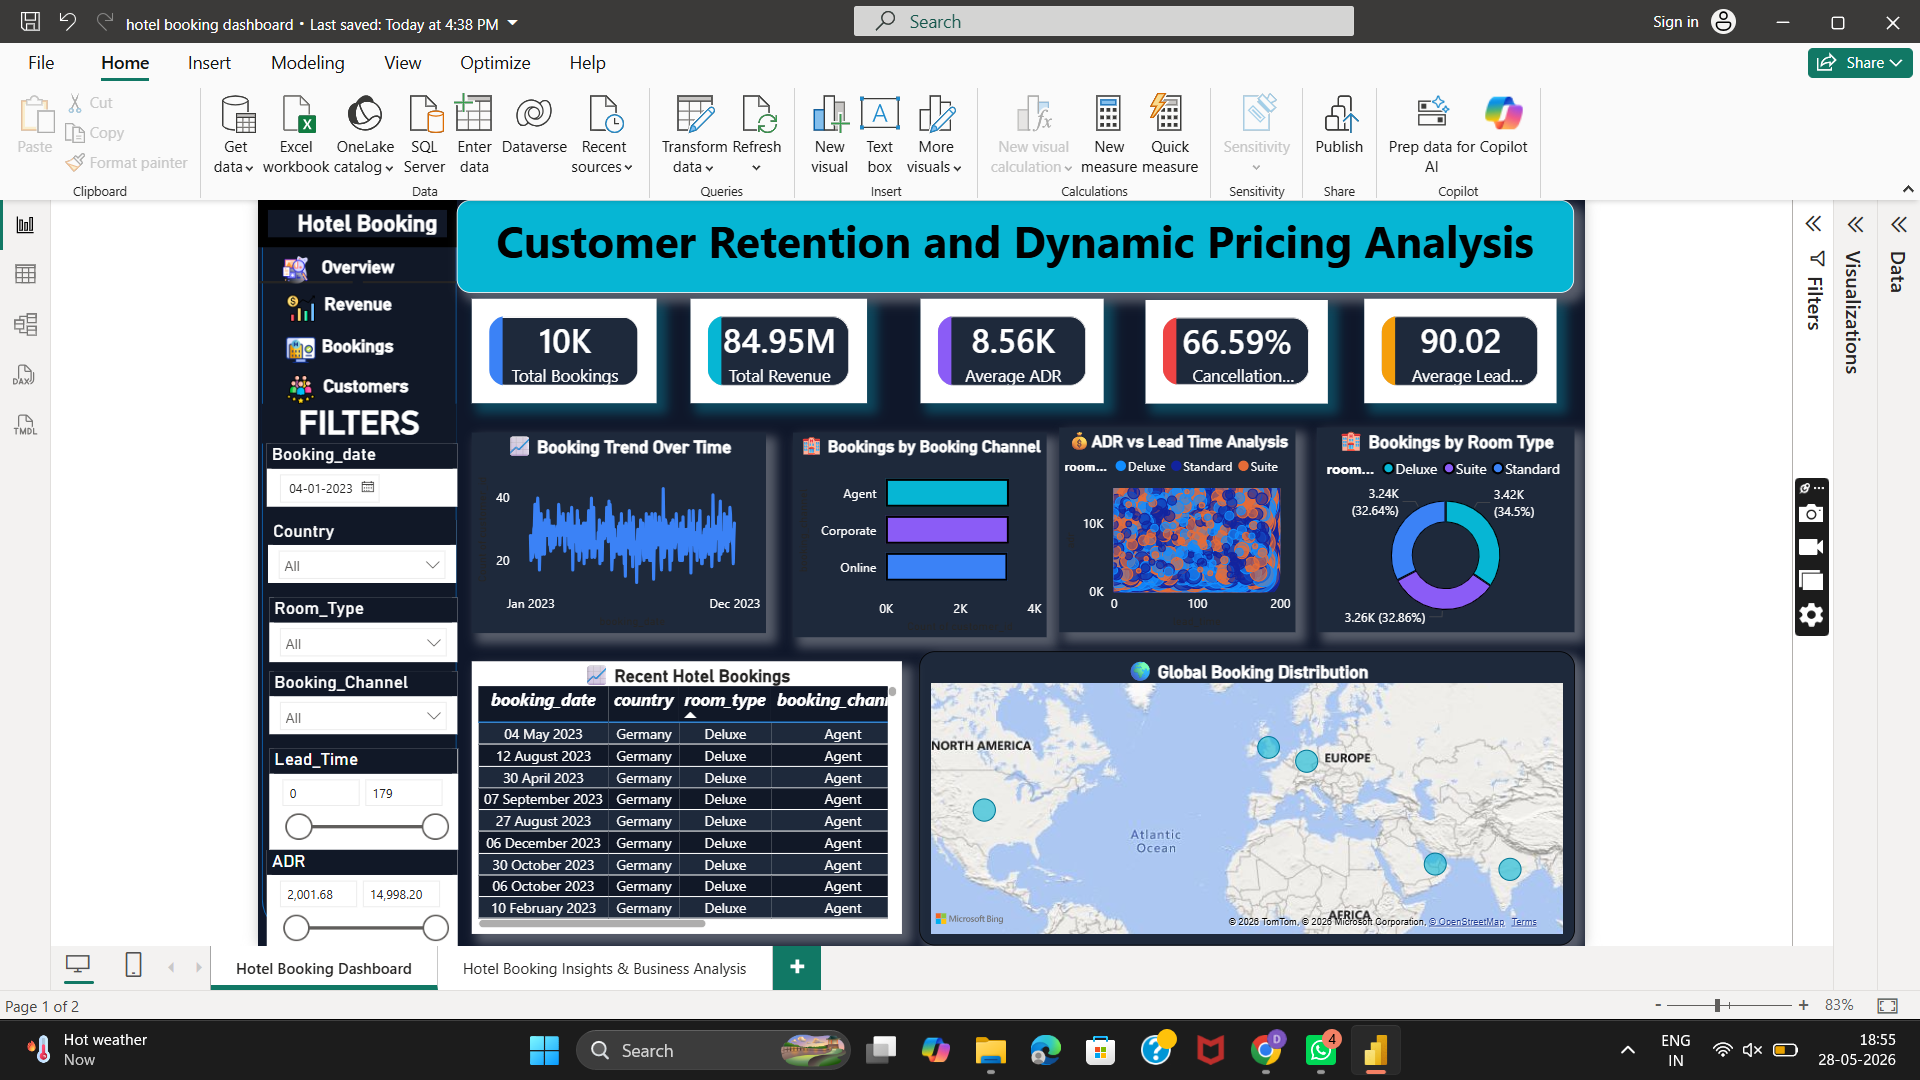

This screenshot's page, from the dashboard's own definition file:
{"tool":"powerbi","page":{"name":"Hotel Booking Dashboard","canvas":[1280,720],"ordinal":0},"visuals":[{"type":"shape","box":[4.2,0,188.2,708.7],"z":0},{"type":"pageNavigator","title":"Overview","box":[1.4,54,191,26.3],"z":1000},{"type":"pageNavigator","title":"Revenue","box":[1.4,90,191,27.7],"z":2000},{"type":"pageNavigator","title":"Bookings","box":[0,130.1,192.4,29.1],"z":3000},{"type":"pageNavigator","title":"Customers","box":[15.2,168.9,177.2,27.7],"z":4000},{"type":"textbox","title":"FILTERS","box":[4.2,196.5,188.2,38.8],"z":5000},{"type":"textbox","title":"Hotel Booking","box":[0,0,192.4,45.7],"z":6000},{"type":"slicer","title":"Booking_date","fields":{"Values":["cleaned_hotel_booking.booking_date"]},"box":[8.3,235.3,184.1,60.9],"z":7000},{"type":"slicer","title":"Country","fields":{"Values":["cleaned_hotel_booking.country"]},"box":[9.7,308.7,181.3,60.9],"z":8000},{"type":"slicer","title":"Room_Type","fields":{"Values":["cleaned_hotel_booking.room_type"]},"box":[11.1,383.4,181.3,62.3],"z":9000},{"type":"slicer","title":"Booking_Channel","fields":{"Values":["cleaned_hotel_booking.booking_channel"]},"box":[11.1,455.4,181.3,60.9],"z":10000},{"type":"slicer","title":"Lead_Time","fields":{"Values":["cleaned_hotel_booking.lead_time"]},"box":[11.1,530.1,181.3,96.9],"z":11000},{"type":"slicer","title":"ADR","fields":{"Values":["cleaned_hotel_booking.adr(average daily rate)"]},"box":[8.3,627,184.1,92.7],"z":12000},{"type":"image","box":[15.2,168.9,51.2,27.7],"z":13000},{"type":"image","box":[15.2,54,40.1,26.3],"z":14000},{"type":"image","box":[15.2,130.1,51.2,29.1],"z":15000},{"type":"image","box":[15.2,90,51.2,27.7],"z":16000},{"type":"cardVisual","fields":{"Data":["cleaned_hotel_booking.Total Bookings"]},"box":[206.2,95.5,178.5,101],"z":17000},{"type":"cardVisual","fields":{"Data":["cleaned_hotel_booking.Total Revenue"]},"box":[418,95.5,170.2,101],"z":18000},{"type":"cardVisual","fields":{"Data":["cleaned_hotel_booking.Average Lead Time"]},"box":[1067.1,95.5,185.5,101],"z":19000},{"type":"cardVisual","fields":{"Data":["cleaned_hotel_booking.Average ADR"]},"box":[639.4,95.5,177.2,101],"z":20000},{"type":"cardVisual","fields":{"Data":["cleaned_hotel_booking.Cancellation Rate"]},"box":[856.8,96.9,175.8,99.7],"z":21000},{"type":"lineChart","title":"📈 Booking Trend Over Time","fields":{"Category":["cleaned_hotel_booking.booking_date"],"Y":["CountNonNull(cleaned_hotel_booking.customer_id)"]},"box":[206.2,224.2,283.7,193.8],"z":22000},{"type":"textbox","box":[192.4,0,1078.2,90],"z":23000},{"type":"donutChart","title":"🏨 Bookings by Room Type","fields":{"Category":["cleaned_hotel_booking.room_type"],"Y":["CountNonNull(cleaned_hotel_booking.customer_id)"]},"box":[1021.5,220.1,249.1,197.9],"z":24000},{"type":"clusteredBarChart","title":"🏨 Bookings by Booking Channel","fields":{"Category":["cleaned_hotel_booking.booking_channel"],"Y":["CountNonNull(cleaned_hotel_booking.customer_id)"]},"box":[516.3,224.2,245,197.9],"z":25000},{"type":"scatterChart","title":"💰ADR vs Lead Time Analysis","fields":{"X":["cleaned_hotel_booking.lead_time"],"Y":["cleaned_hotel_booking.adr"],"Series":["cleaned_hotel_booking.room_type"],"Size":["Sum(cleaned_hotel_booking.customer_id)"]},"box":[773.7,220.1,228.4,197.9],"z":26000},{"type":"map","title":"🌍 Global Booking Distribution","fields":{"Category":["cleaned_hotel_booking.country"],"Size":["CountNonNull(cleaned_hotel_booking.customer_id)"]},"box":[638.1,436,632.5,283.7],"z":27000},{"type":"tableEx","title":"📈 Recent Hotel Bookings","fields":{"Values":["cleaned_hotel_booking.booking_date","cleaned_hotel_booking.country","cleaned_hotel_booking.room_type","cleaned_hotel_booking.booking_channel","cleaned_hotel_booking.adr","cleaned_hotel_booking.lead_time","cleaned_hotel_booking.Cancellation Rate"]},"box":[206.2,445.7,415.2,263],"z":28000}]}

Visuals, with their boxes on the page's 1280x720 design canvas (x1, y1, x2, y2). These are canvas units, not pixel positions in the 1920x1080 screenshot, which may show the page scaled, cropped or inside an application window:
shape: BBox(4, 0, 192, 709)
"Overview" pageNavigator: BBox(1, 54, 192, 80)
"Revenue" pageNavigator: BBox(1, 90, 192, 118)
"Bookings" pageNavigator: BBox(0, 130, 192, 159)
"Customers" pageNavigator: BBox(15, 169, 192, 197)
"FILTERS" textbox: BBox(4, 196, 192, 235)
"Hotel Booking" textbox: BBox(0, 0, 192, 46)
"Booking_date" slicer: BBox(8, 235, 192, 296)
"Country" slicer: BBox(10, 309, 191, 370)
"Room_Type" slicer: BBox(11, 383, 192, 446)
"Booking_Channel" slicer: BBox(11, 455, 192, 516)
"Lead_Time" slicer: BBox(11, 530, 192, 627)
"ADR" slicer: BBox(8, 627, 192, 720)
image: BBox(15, 169, 66, 197)
image: BBox(15, 54, 55, 80)
image: BBox(15, 130, 66, 159)
image: BBox(15, 90, 66, 118)
cardVisual - cleaned_hotel_booking.Total Bookings: BBox(206, 96, 385, 196)
cardVisual - cleaned_hotel_booking.Total Revenue: BBox(418, 96, 588, 196)
cardVisual - cleaned_hotel_booking.Average Lead Time: BBox(1067, 96, 1253, 196)
cardVisual - cleaned_hotel_booking.Average ADR: BBox(639, 96, 817, 196)
cardVisual - cleaned_hotel_booking.Cancellation Rate: BBox(857, 97, 1033, 197)
"📈 Booking Trend Over Time" lineChart: BBox(206, 224, 490, 418)
textbox: BBox(192, 0, 1271, 90)
"🏨 Bookings by Room Type" donutChart: BBox(1022, 220, 1271, 418)
"🏨 Bookings by Booking Channel" clusteredBarChart: BBox(516, 224, 761, 422)
"💰ADR vs Lead Time Analysis" scatterChart: BBox(774, 220, 1002, 418)
"🌍 Global Booking Distribution" map: BBox(638, 436, 1271, 720)
"📈 Recent Hotel Bookings" tableEx: BBox(206, 446, 621, 709)
